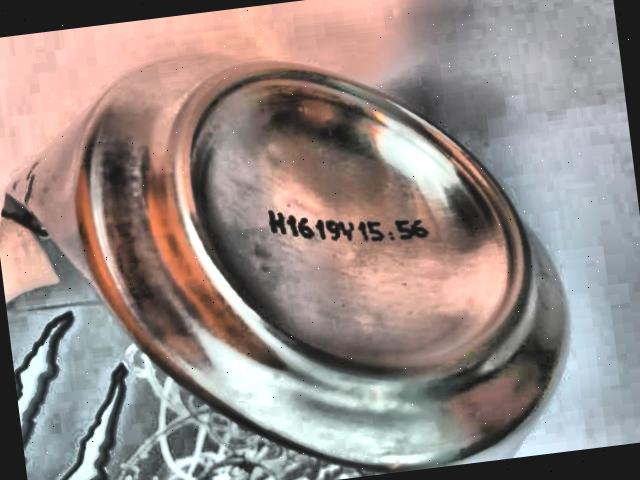Bottles: (0, 5, 582, 480)
